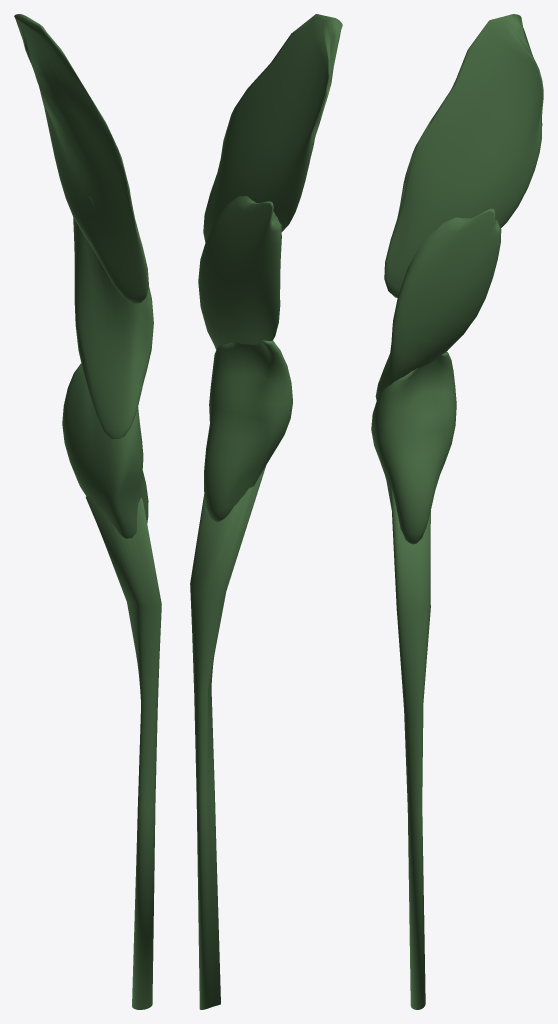
File: Algue 01.fbx
3 views of the same model, side by side, from view 1: azimuth 30°, elevation 25°; view 2: azimuth 210°, elevation 25°; view 3: azimuth 270°, elevation 25° (orthographic). The views are drawn at different scales.
Parts seen in each view (by area): view 1: algue solo; view 2: algue solo; view 3: algue solo.
Part boxes in pixels (x1,y1,x2,y2): algue solo: (14, 14, 161, 1009); algue solo: (190, 14, 342, 1009); algue solo: (371, 14, 543, 1009).
Size of the model in its own units: 0.8305 by 8.76 by 1.43.
